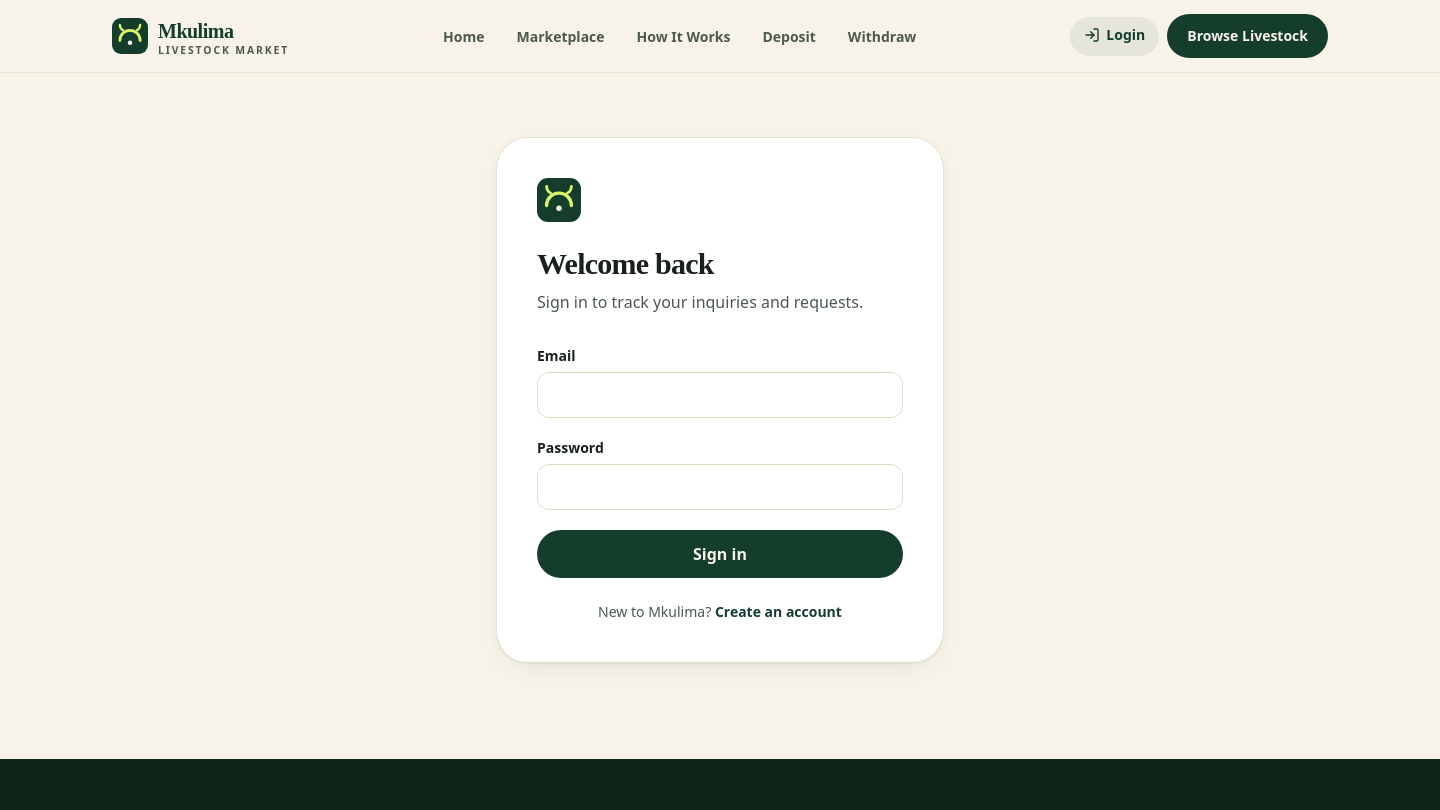
Test: Account forms › login validates before contacting the server
Step 1. Click the button "Sign in" → {"x": 720, "y": 554}, box [537,530,903,578]
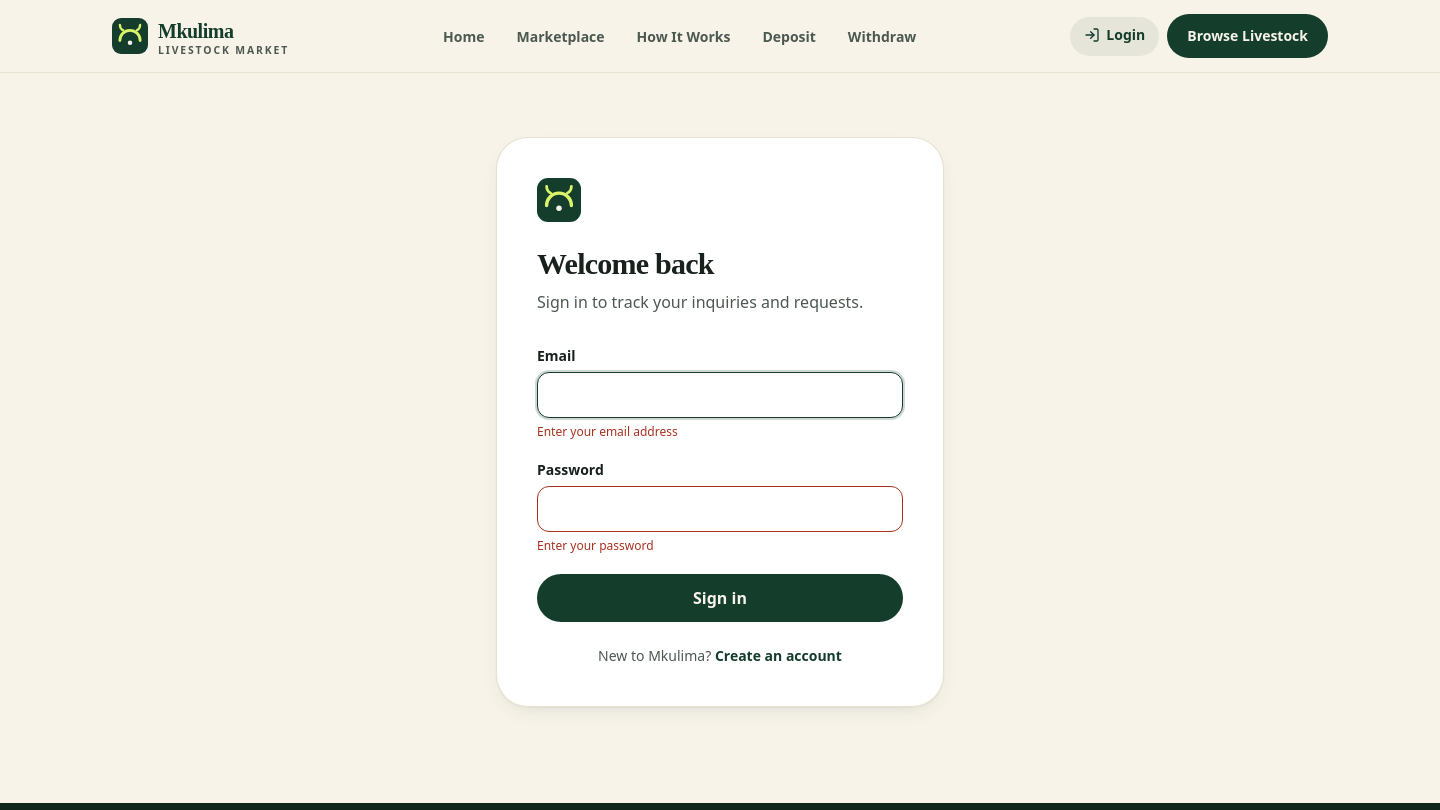
Result: the text "Enter your email address" is shown at [537,423,678,440]
Result: the text "Enter your password" is shown at [537,537,654,554]
